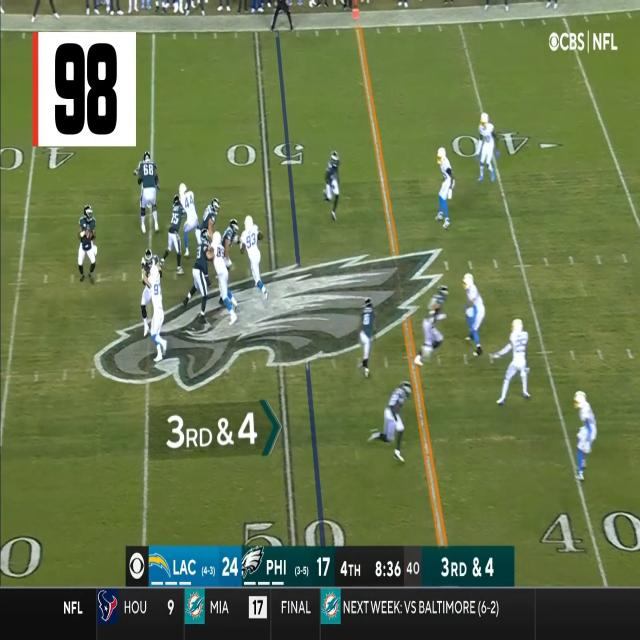football: (86, 228, 90, 240)
players: (368, 380, 413, 464), (494, 319, 532, 406), (208, 232, 239, 324), (418, 282, 450, 368), (239, 215, 269, 300), (183, 234, 217, 307), (160, 195, 188, 278), (431, 145, 456, 232), (146, 266, 168, 362), (574, 391, 597, 481), (462, 273, 486, 357), (178, 182, 203, 258), (138, 151, 161, 233), (140, 250, 161, 337), (358, 294, 378, 381), (475, 112, 499, 184), (322, 150, 345, 222), (78, 205, 97, 285), (198, 198, 222, 256), (220, 218, 242, 274), (28, 1, 66, 27)
